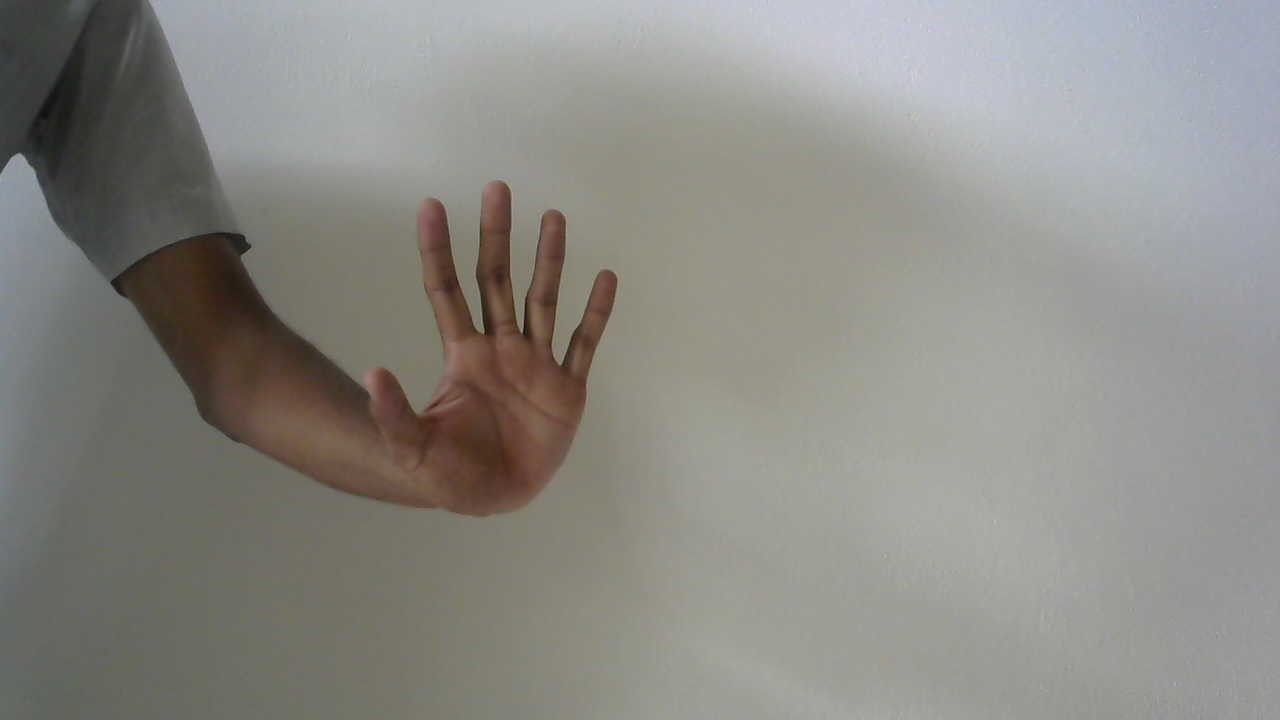hello: (356, 176, 632, 528)
